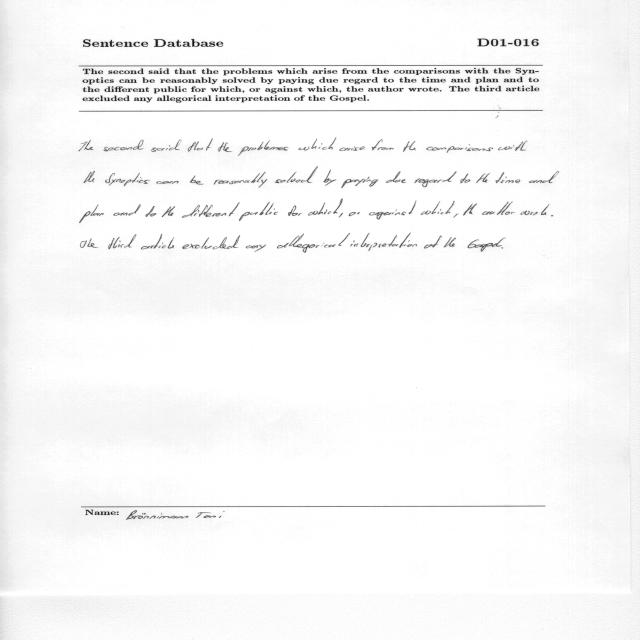word: (277, 233, 350, 253), (350, 233, 417, 251), (182, 202, 240, 218), (369, 201, 416, 220), (182, 235, 240, 250), (214, 172, 267, 188), (238, 140, 289, 156), (239, 202, 278, 221), (275, 167, 318, 184), (415, 172, 457, 188), (426, 144, 493, 153), (308, 199, 343, 216), (105, 173, 150, 186), (468, 238, 506, 252), (141, 234, 174, 249), (299, 138, 336, 151), (421, 201, 455, 215), (103, 140, 144, 151), (79, 205, 104, 223), (482, 202, 515, 215), (109, 234, 137, 249), (342, 177, 379, 188), (152, 139, 182, 152), (529, 171, 559, 183), (188, 138, 213, 152), (113, 204, 141, 216), (521, 205, 550, 216), (498, 141, 527, 151), (496, 172, 521, 183), (372, 140, 394, 151), (386, 171, 406, 183), (424, 236, 442, 249), (324, 169, 337, 186), (81, 238, 98, 248), (463, 204, 477, 216), (79, 140, 94, 151), (246, 244, 266, 252), (403, 141, 416, 152), (162, 207, 175, 218), (476, 173, 490, 183), (288, 206, 302, 216), (84, 171, 95, 183), (218, 142, 231, 152), (339, 146, 365, 151), (444, 237, 456, 247), (190, 176, 203, 185), (146, 206, 156, 217), (461, 174, 471, 184), (156, 181, 179, 184), (348, 212, 360, 216), (453, 213, 458, 218), (339, 213, 343, 218), (501, 247, 503, 249), (551, 215, 553, 216)
